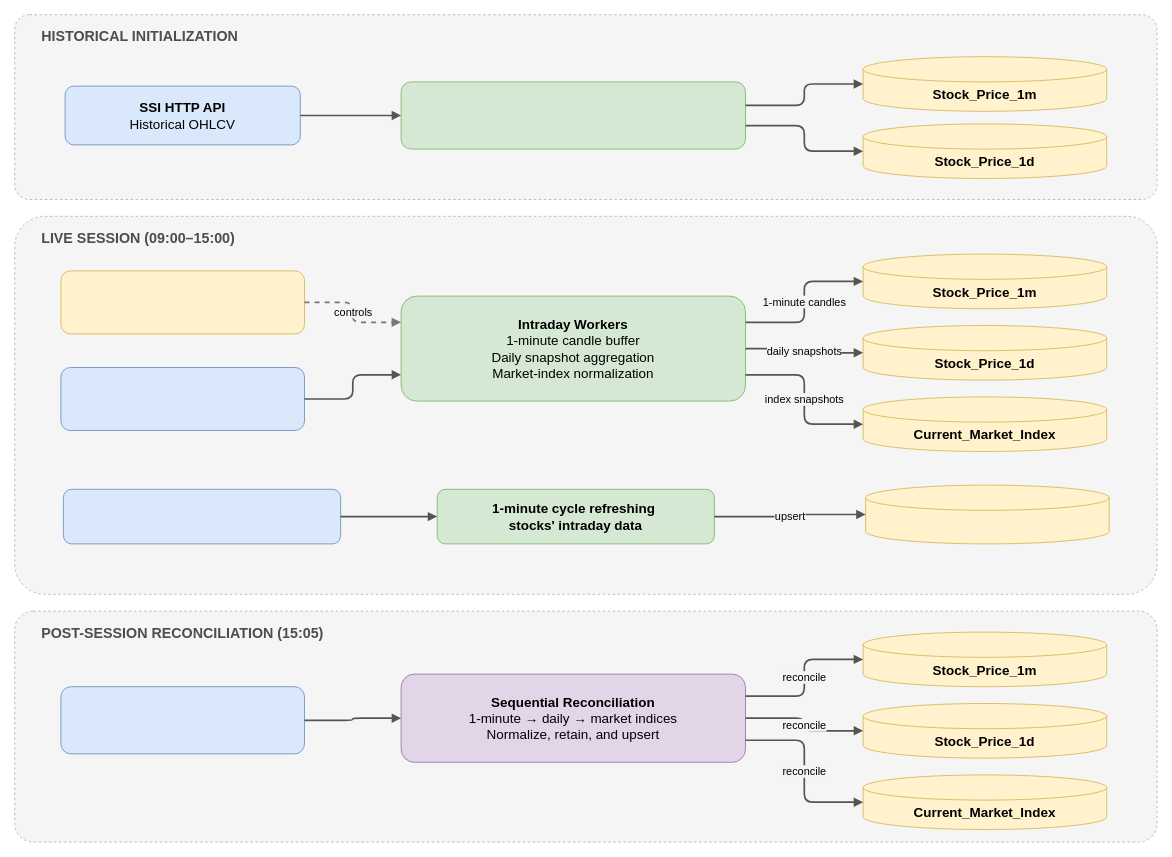
The diagram is 1172 pixels wide and 857 high, and some of its shapes have lost their labels. The shapes that lost their labels are listed below. From the top down, each one's box as (x1, y1, x2, y2) in pixels, then its label:
(400, 81, 746, 149): Initialization Jobs Chunk requests, normalize, deduplicate, and pace
(60, 270, 304, 334): Python Scheduler Start, monitor, restart, and stop workers
(60, 367, 304, 430): SSI WebSocket Bar and market-index streams
(63, 488, 341, 544): Scheduled Supabase Edge Function
(865, 484, 1109, 544): Current_Stock_Price
(60, 686, 304, 754): SSI HTTP API Short lookback and end-of-day data
